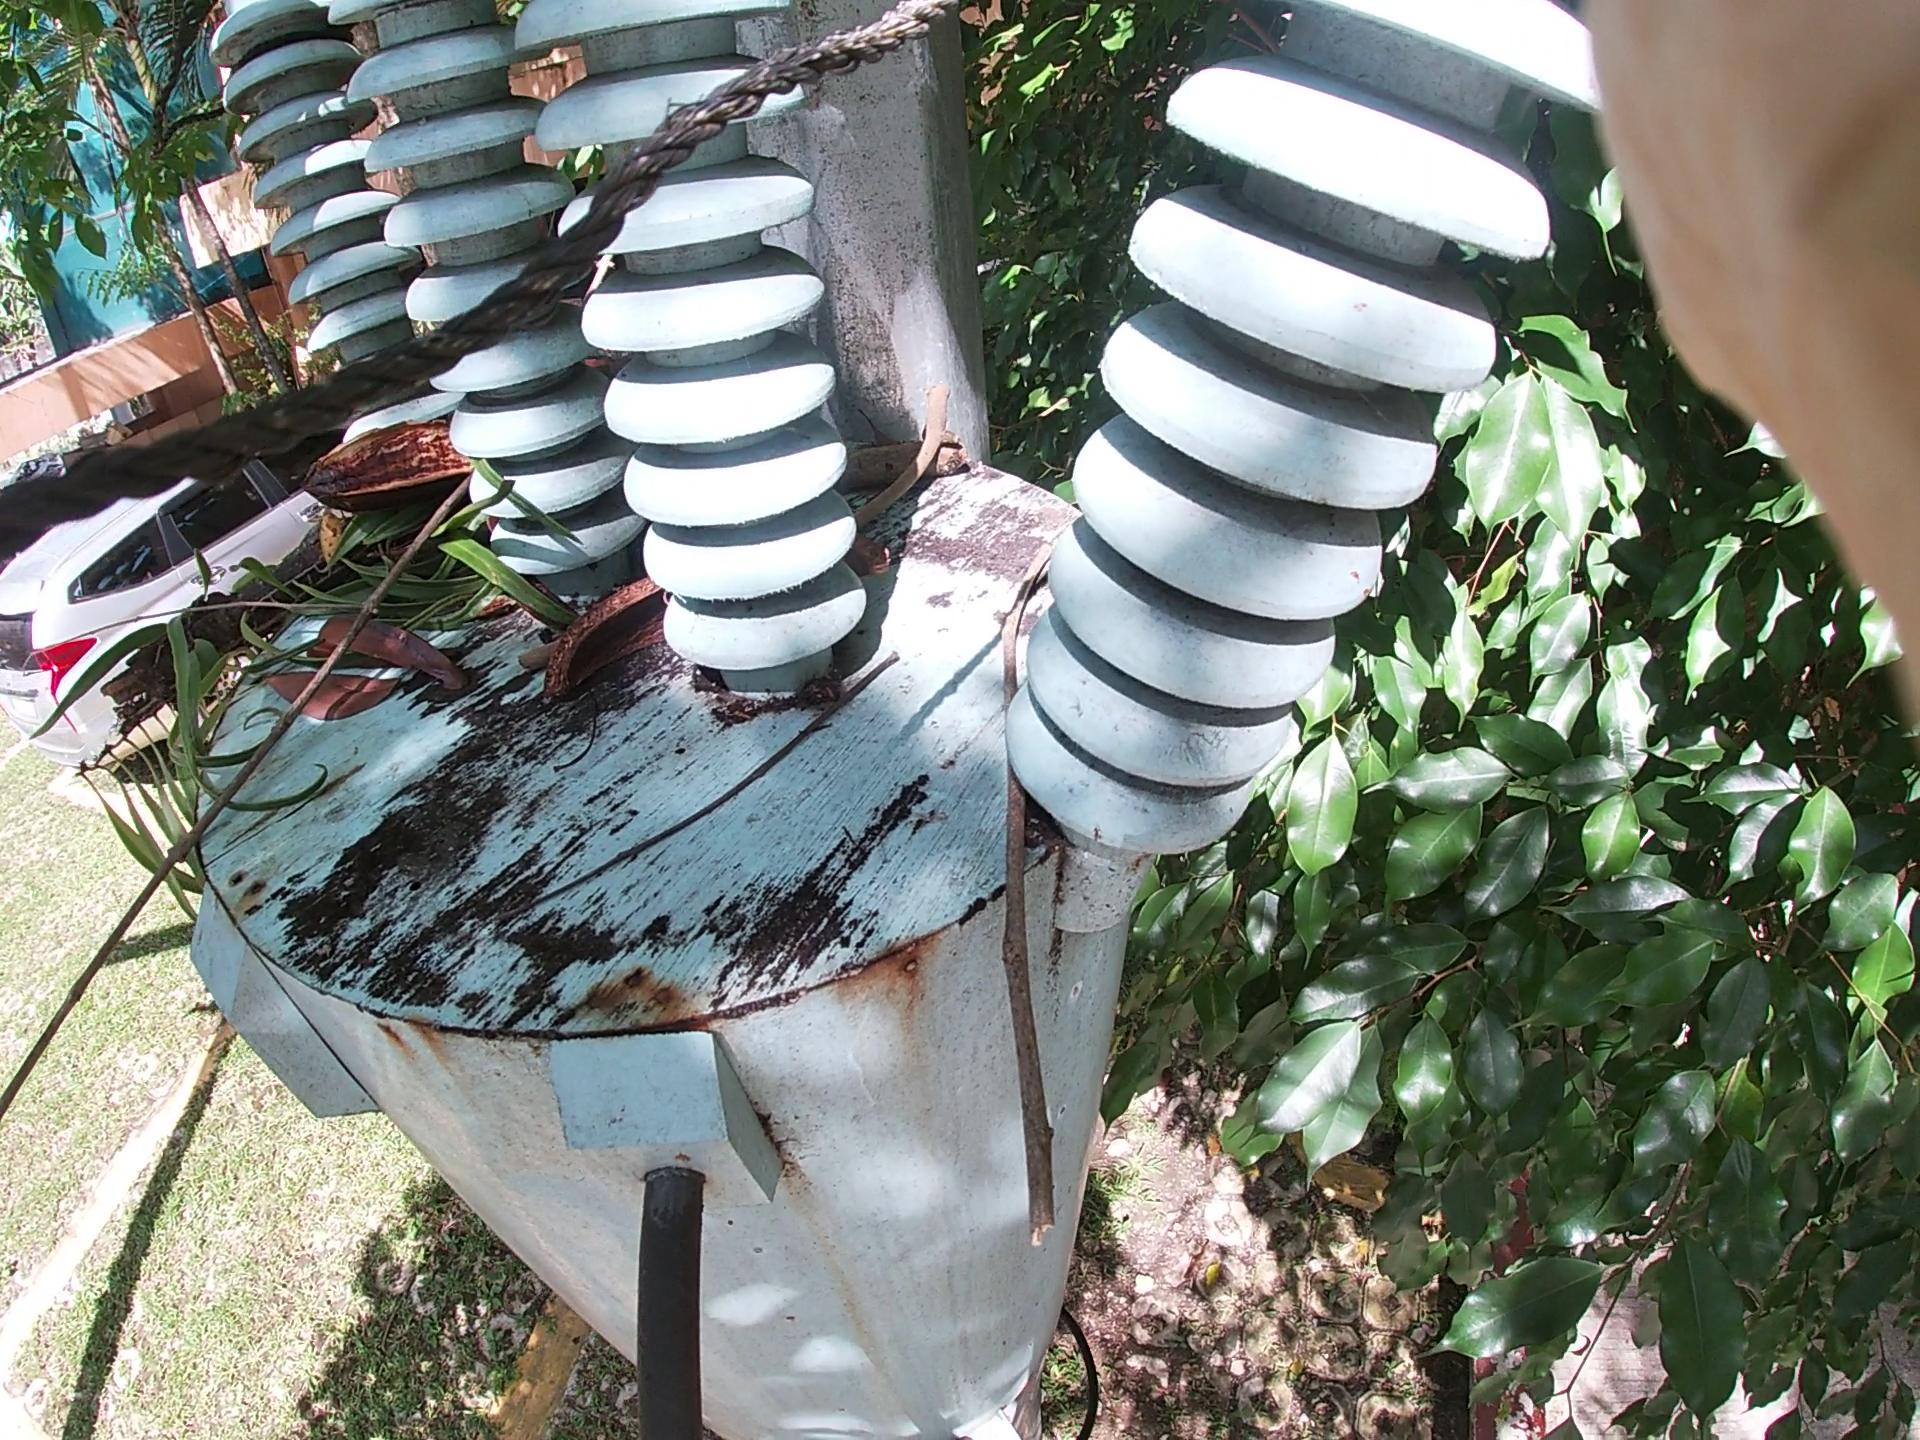branch with leaves: (177, 452, 957, 793)
leaf: (231, 597, 451, 755)
mahogany fruit: (286, 424, 513, 517), (523, 607, 757, 691)
tree branch: (30, 464, 497, 1106), (986, 555, 1048, 1231), (841, 352, 958, 564), (505, 602, 609, 678)
